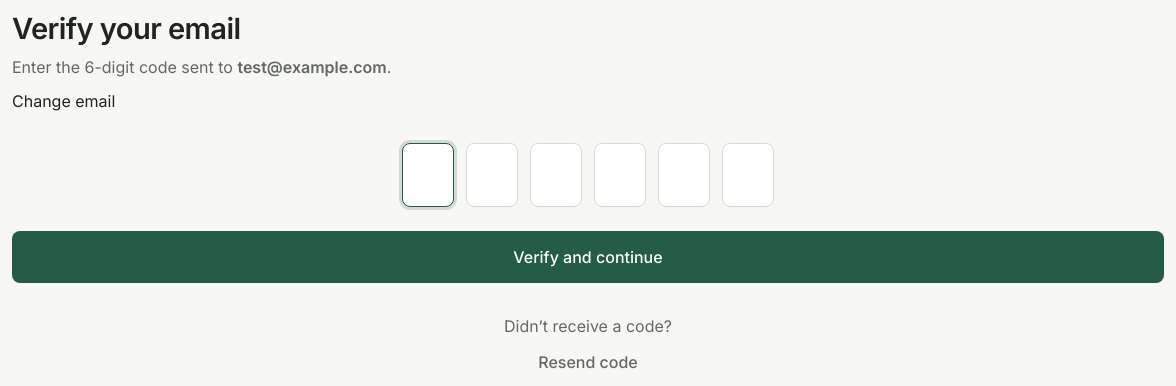
Test: CreateAccountVerify › verifies email OTP and switches to mobile
Type "123456" into the field named "Digit 1 of 6" at coordinates (428, 175), box left=402, top=143, right=454, bottom=207
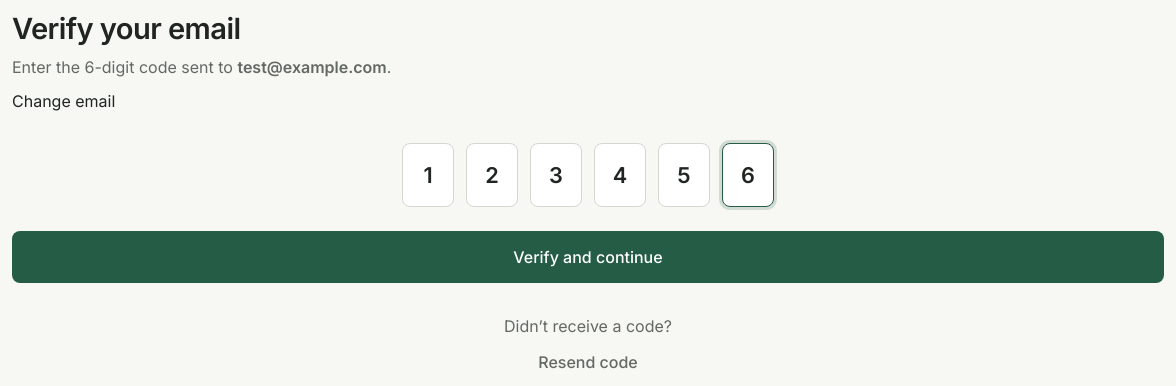
Click the button "Verify and continue" at coordinates (588, 257), box left=12, top=231, right=1164, bottom=283
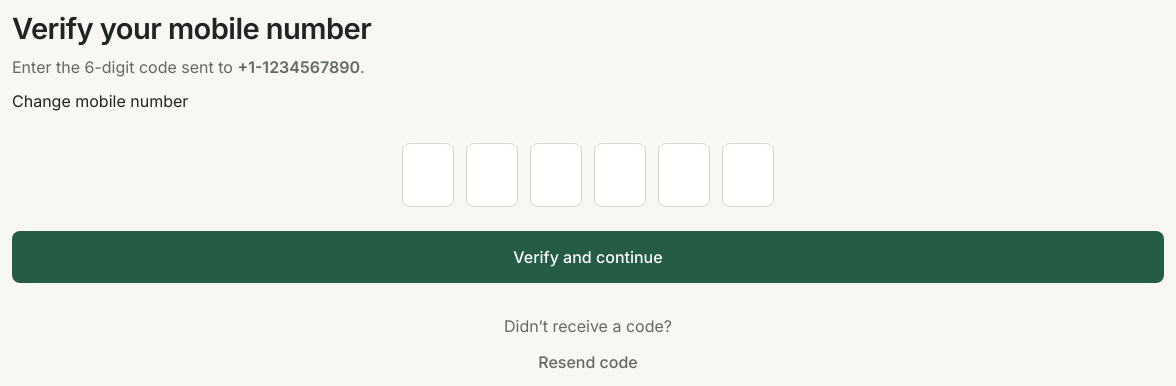
Check: the heading "Verify your mobile number" is shown, box left=12, top=12, right=371, bottom=47
